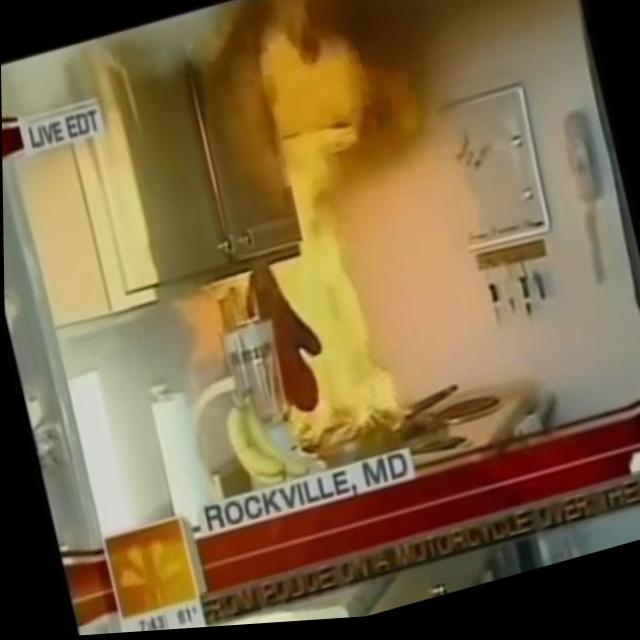fire: (200, 6, 439, 466)
